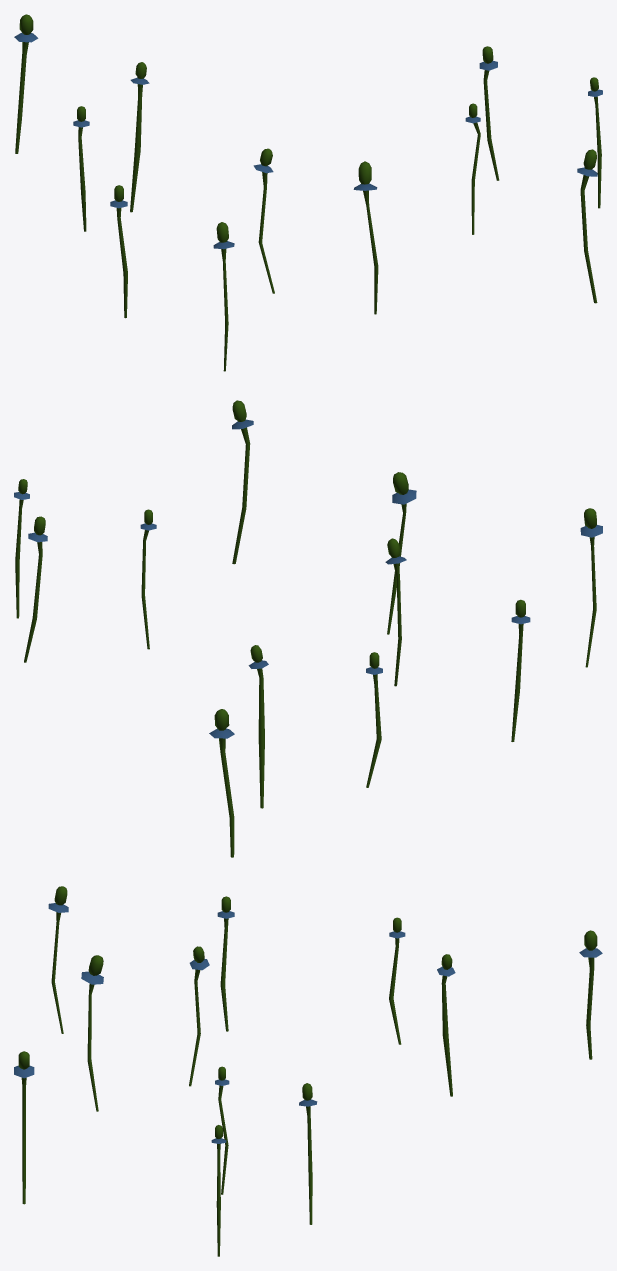
File: parsiTendrilSpikes03.FBX
3 views of the same model, one above another, from view 1: azimuth 30°, elevation 25°; view 2: azimuth 150°, elevation 25°; view 3: azimuth 270°, elevation 25° (orthographic). The views are drawn at different scales.
Visible parts, largest first — view 1: parsiTendrilSpikes03_LOD0; view 2: parsiTendrilSpikes03_LOD0; view 3: parsiTendrilSpikes03_LOD0.
Boxes of the visible parts, x1,y1,x2,y2 form: parsiTendrilSpikes03_LOD0: (14, 14, 602, 371); parsiTendrilSpikes03_LOD0: (14, 400, 602, 857); parsiTendrilSpikes03_LOD0: (14, 886, 602, 1256).
Size of what is drawn, in the model's own units: 3.2 by 1.06 by 3.42.
